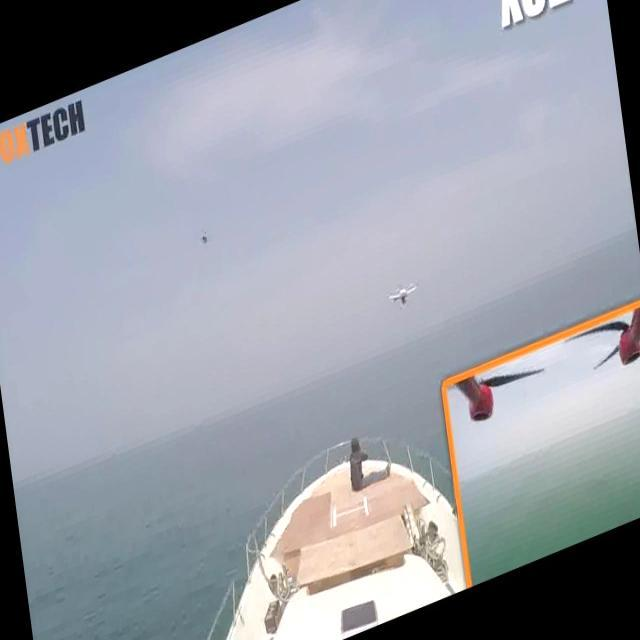drone: (380, 270, 422, 318), (196, 227, 214, 253)
